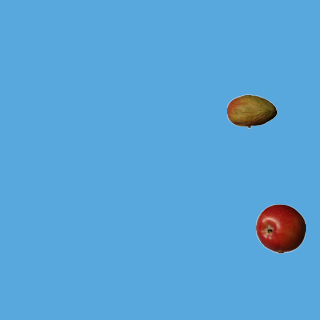Apple Braeburn: (255, 203, 305, 253)
Papaya: (226, 86, 276, 136)
